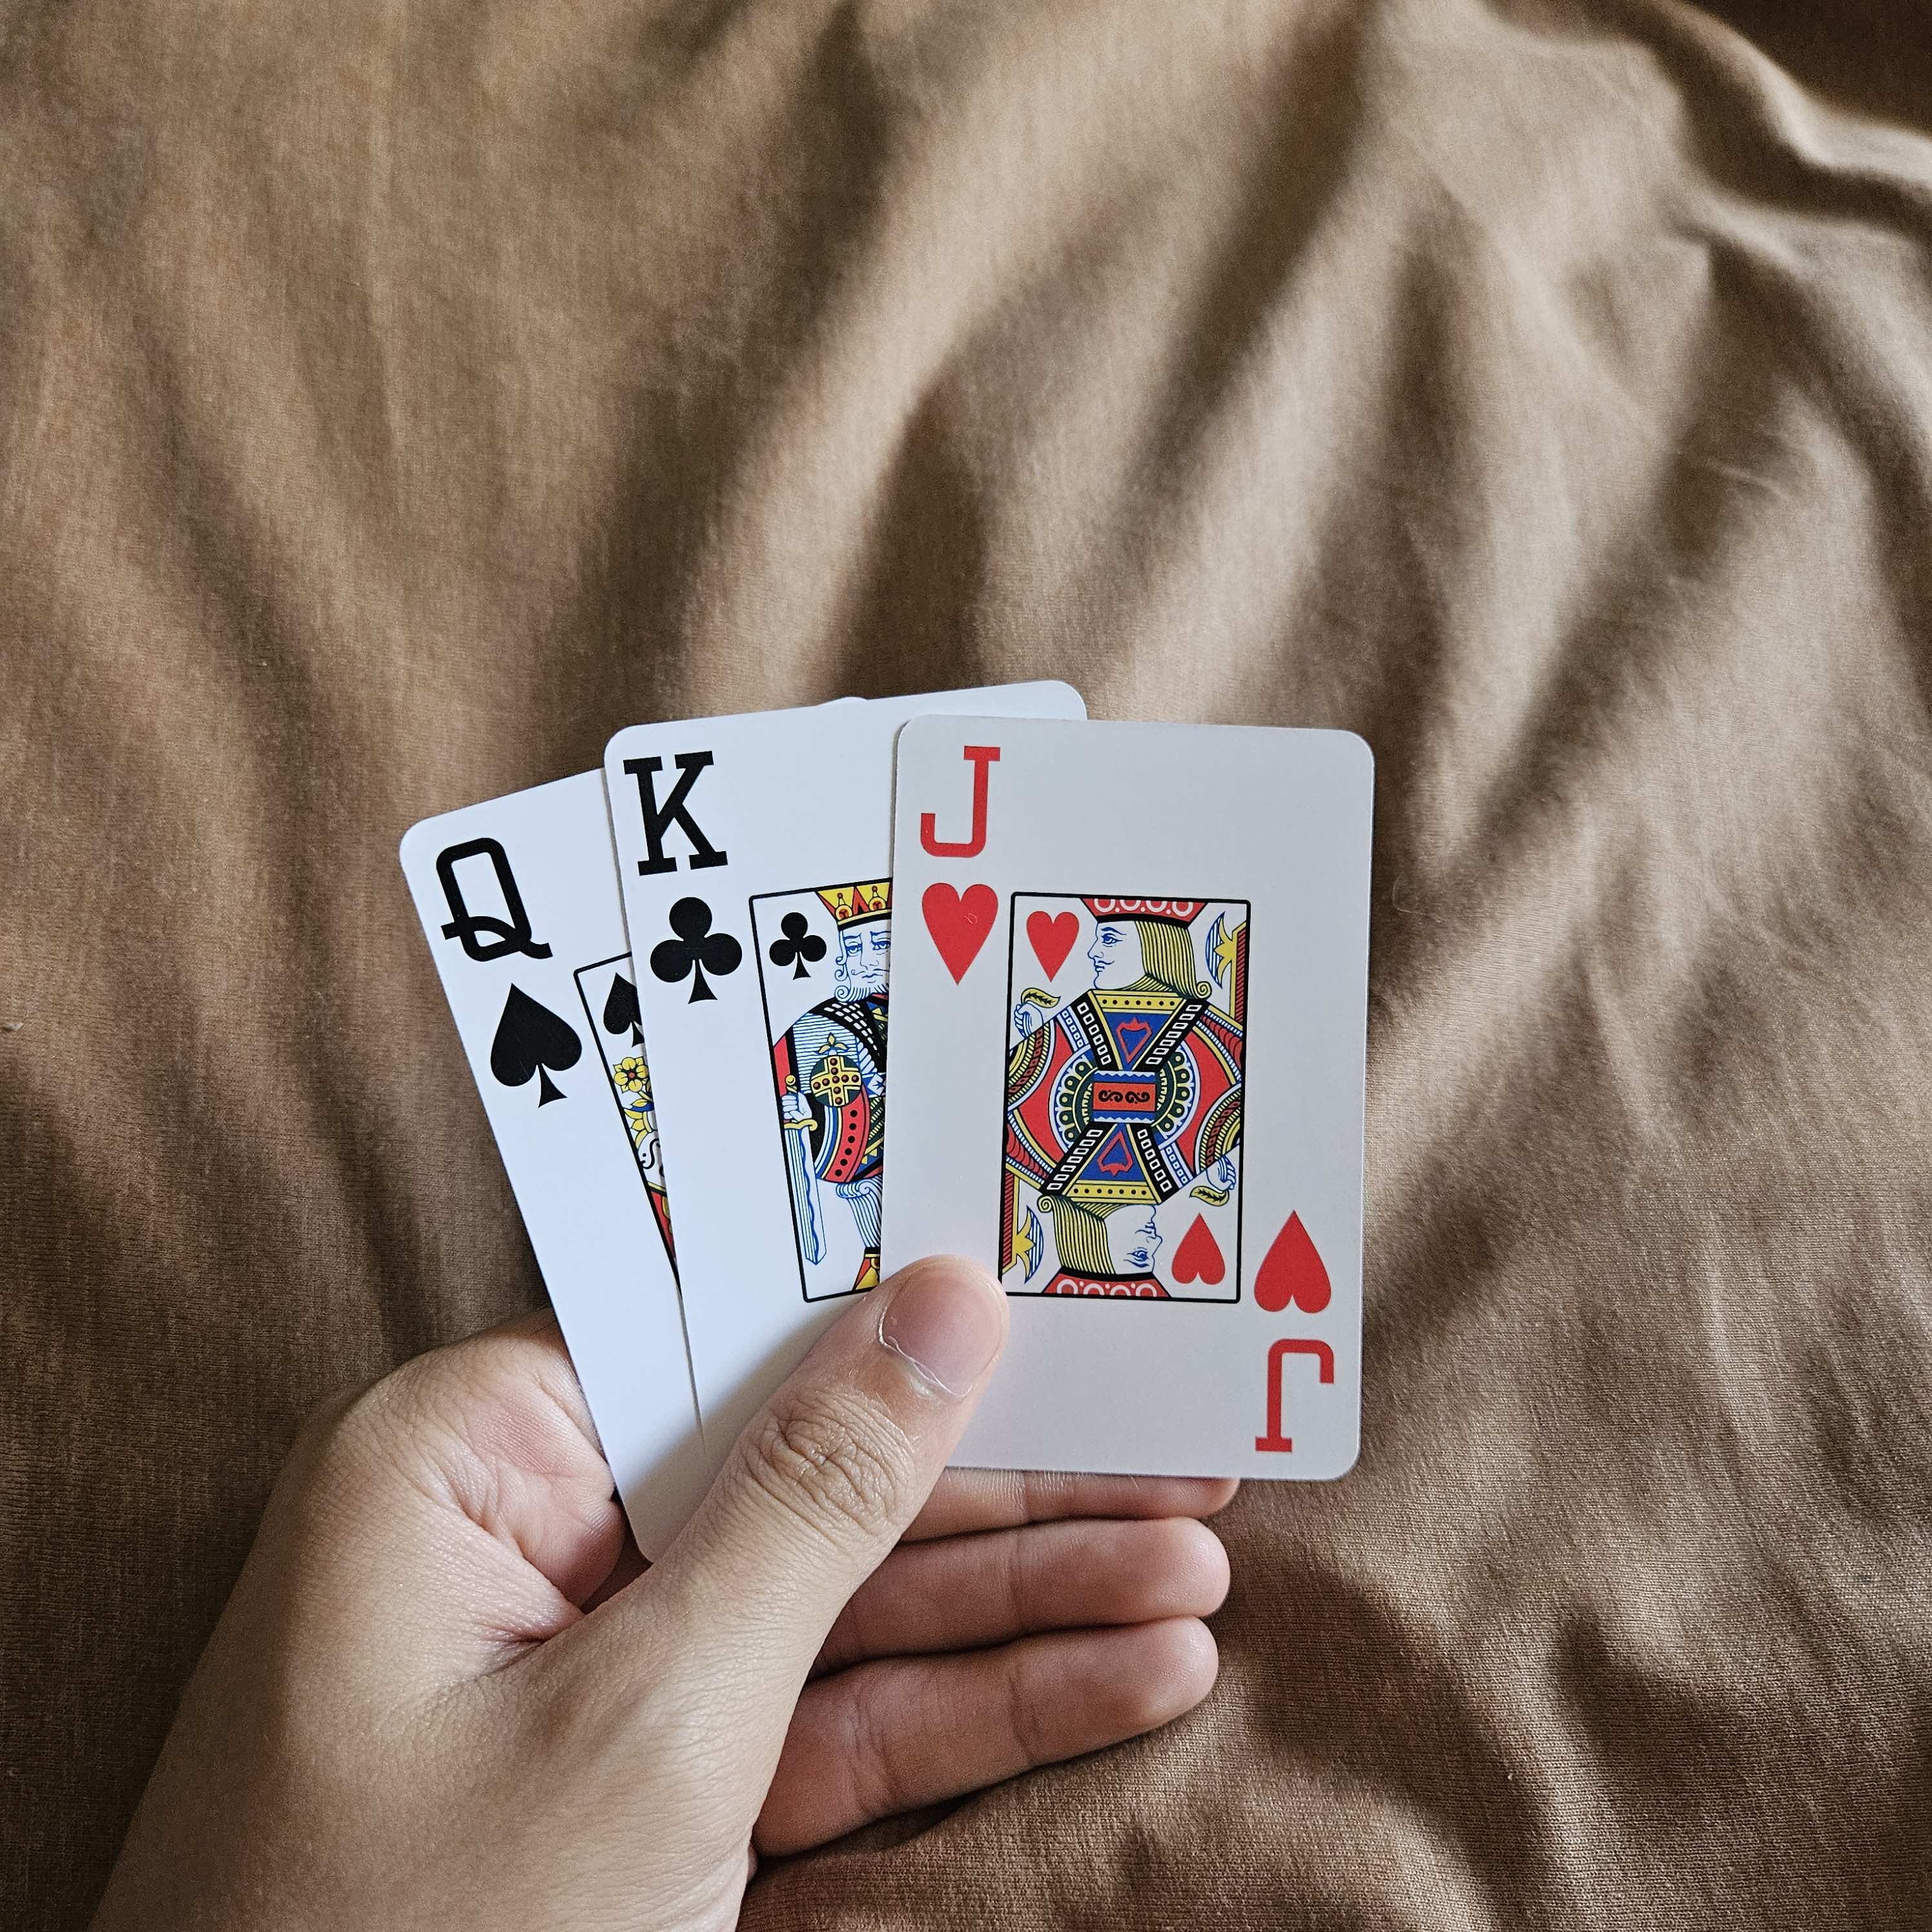JC: (895, 720, 1024, 1010), (1237, 1191, 1357, 1470)
KP: (605, 731, 777, 1008)
QE: (421, 817, 603, 1118)
